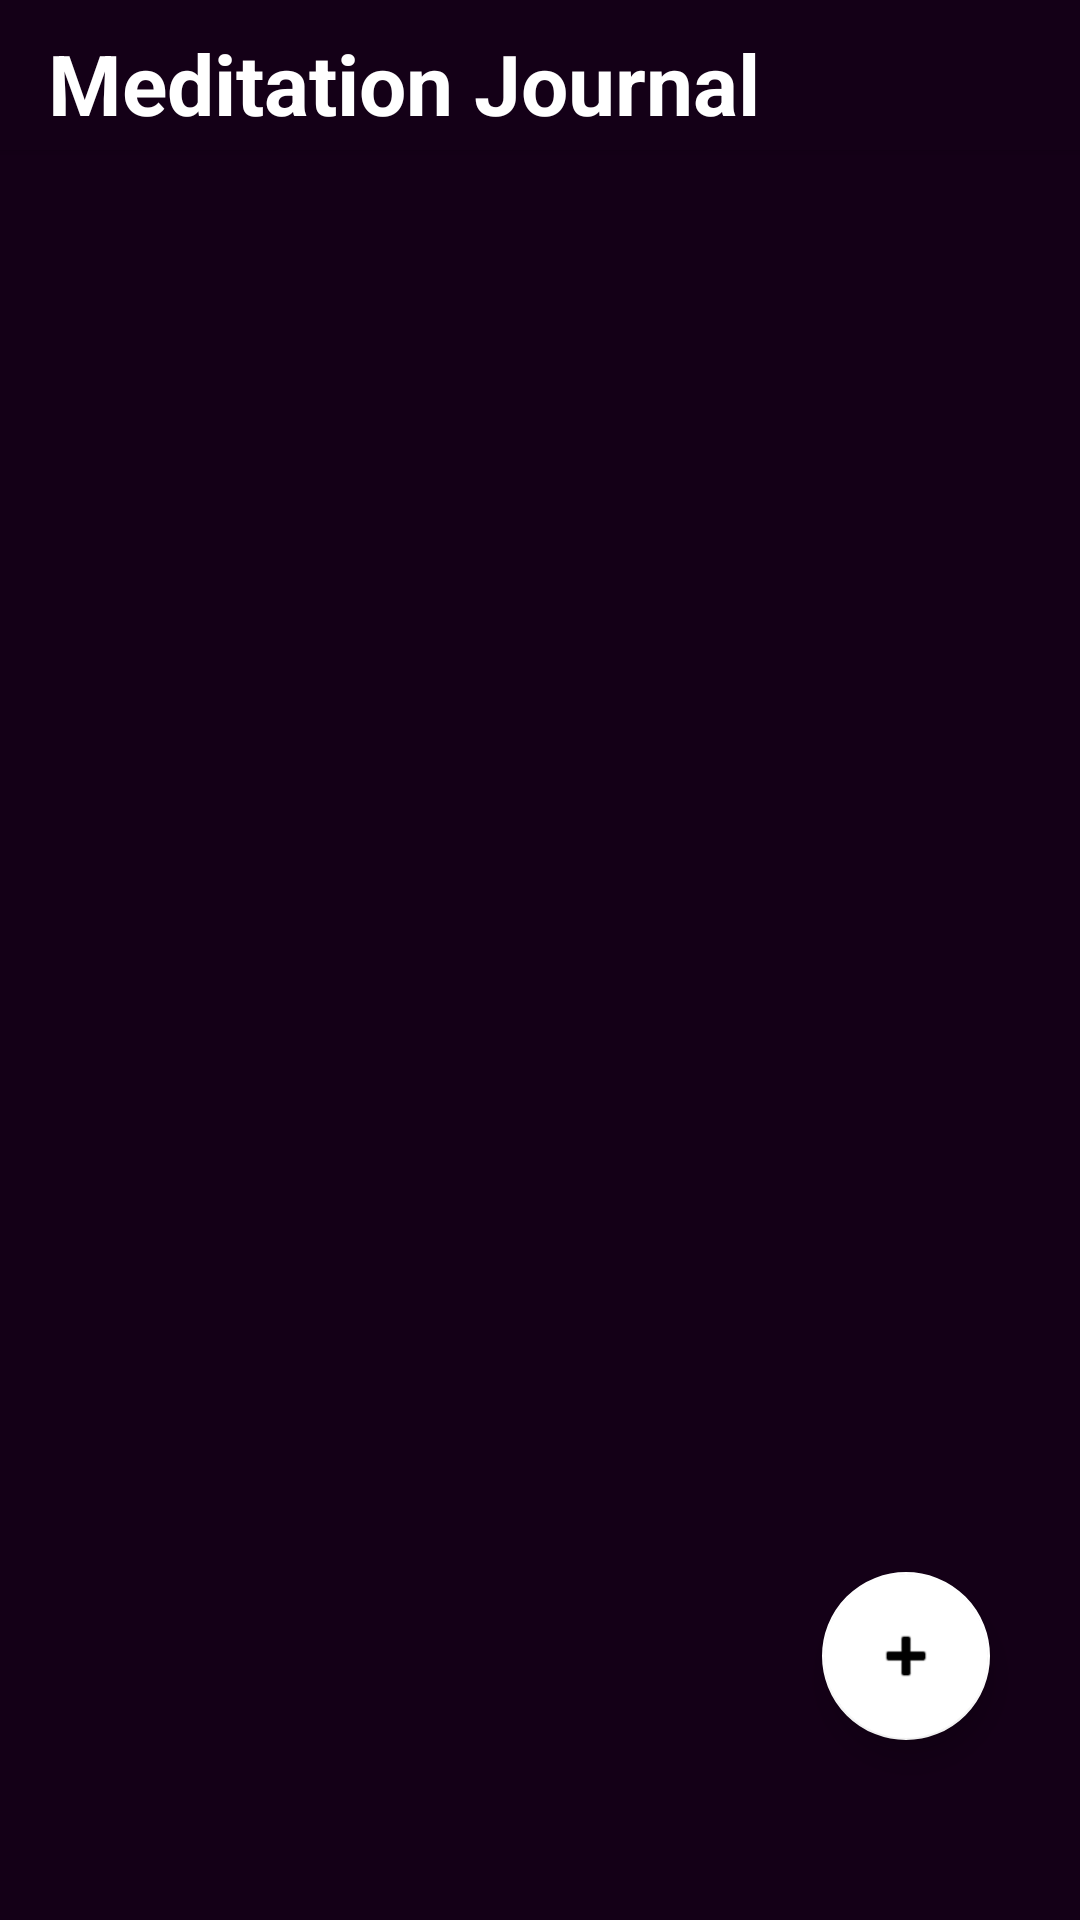

Icons on this 1080×1920 Android screen, each with its box as bbox=[x1, y1, x2, y2]:
add: bbox=[822, 1572, 990, 1740]
